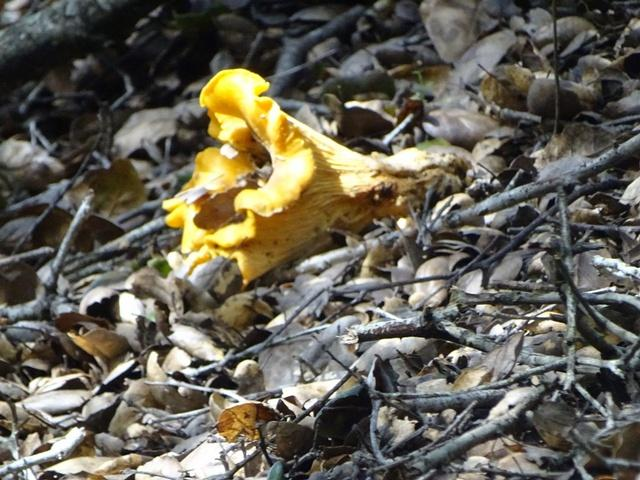Edible Mushroom: (161, 66, 476, 288)
